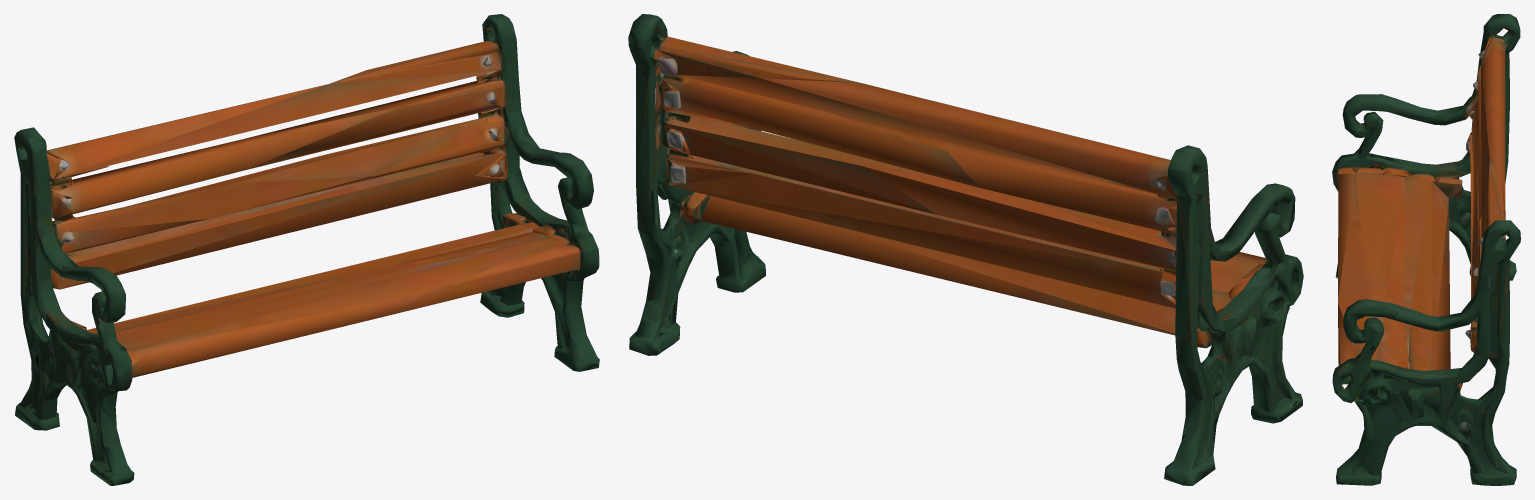
The model's file is getkong-bank.glb.
3 views of the same model, side by side, from view 1: azimuth 30°, elevation 25°; view 2: azimuth 150°, elevation 25°; view 3: azimuth 270°, elevation 25° (orthographic). The views are drawn at different scales.
Visible parts, largest first — view 1: output_unwrapped; view 2: output_unwrapped; view 3: output_unwrapped.
Part boxes in pixels (bbox=[...]): output_unwrapped: bbox=[14, 14, 599, 485]; output_unwrapped: bbox=[628, 14, 1303, 485]; output_unwrapped: bbox=[1332, 14, 1520, 485].
Bounding box in the file's own units: 1.9 × 1.06 × 0.6995.
1 material, 1 textured.
